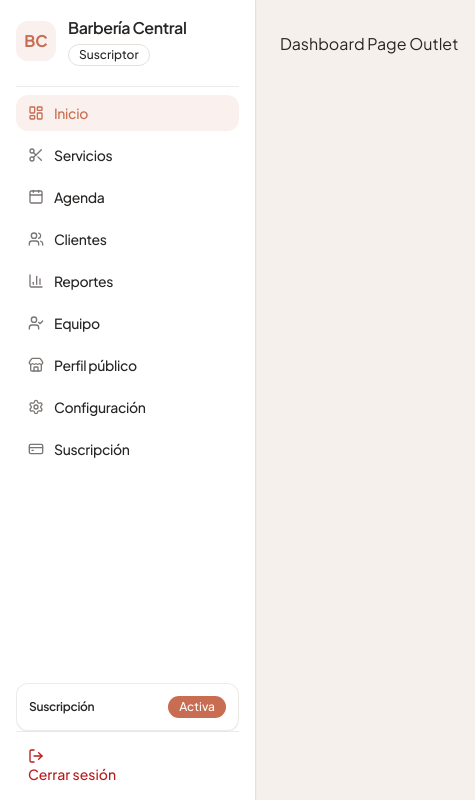
Test: BusinessSidebar (KAN-29, KAN-39, KAN-42) › KAN-51: navigates to settings without opening the placeholder dialog
Click the button "Configuración".
click(128, 407)  # box 16,389 -> 239,425
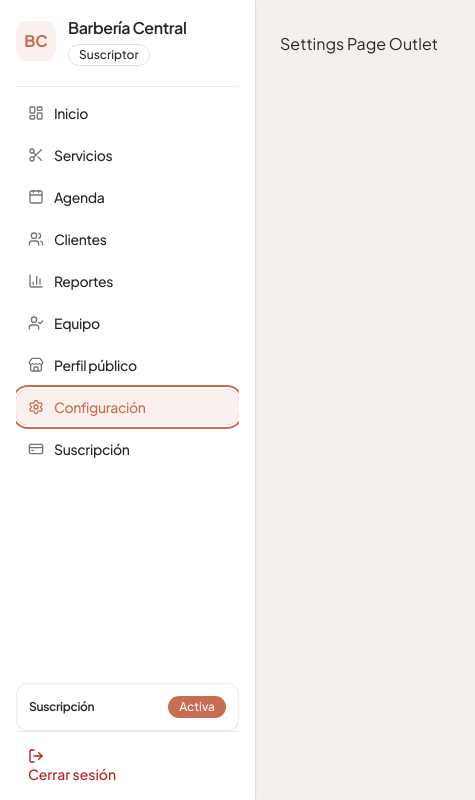
Now the text "Settings Page Outlet" is shown, box 280,33 -> 438,54
